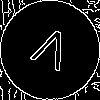V: (25, 25, 74, 80)
